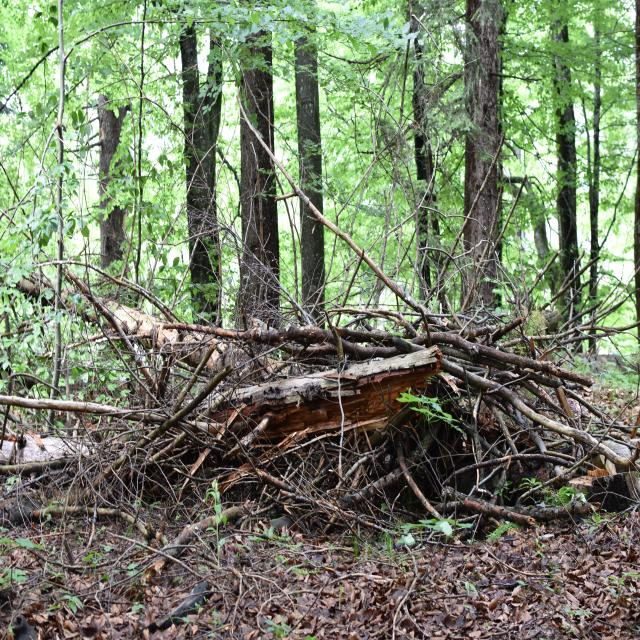restos de madeira: (67, 256, 312, 351), (443, 361, 640, 477), (228, 357, 423, 452), (234, 434, 404, 540), (318, 213, 449, 334), (0, 377, 229, 440), (532, 247, 640, 343), (124, 426, 216, 502), (315, 322, 437, 368), (387, 438, 455, 516), (109, 535, 212, 585), (489, 494, 598, 527), (56, 457, 84, 571), (21, 500, 140, 525), (105, 504, 168, 548), (0, 456, 83, 480), (434, 330, 496, 360), (2, 370, 63, 400), (448, 492, 504, 524), (527, 248, 561, 294), (1, 498, 45, 529), (0, 426, 45, 452), (566, 257, 578, 348), (0, 321, 41, 341), (1, 397, 12, 459), (543, 307, 565, 332)
